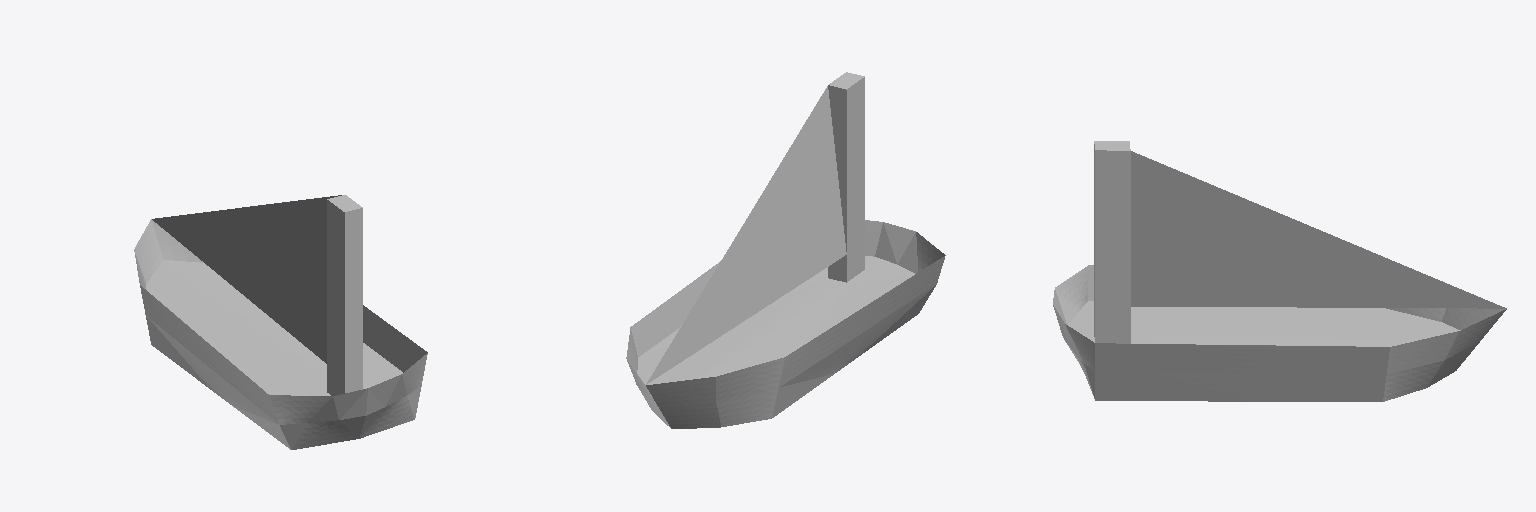
File: 4NumPoints.obj
3 views of the same model, side by side, from view 1: azimuth 30°, elevation 25°; view 2: azimuth 150°, elevation 25°; view 3: azimuth 270°, elevation 25° (orthographic).
Parts seen in each view (by area): view 1: Cube.001_Cube.002; view 2: Cube.001_Cube.002; view 3: Cube.001_Cube.002.
Boxes of the visible parts, <box> form: Cube.001_Cube.002: <box>134,195,427,449</box>; Cube.001_Cube.002: <box>626,72,945,428</box>; Cube.001_Cube.002: <box>1053,141,1506,401</box>.
Size of the model in its own units: 5.35 by 7 by 12.8.